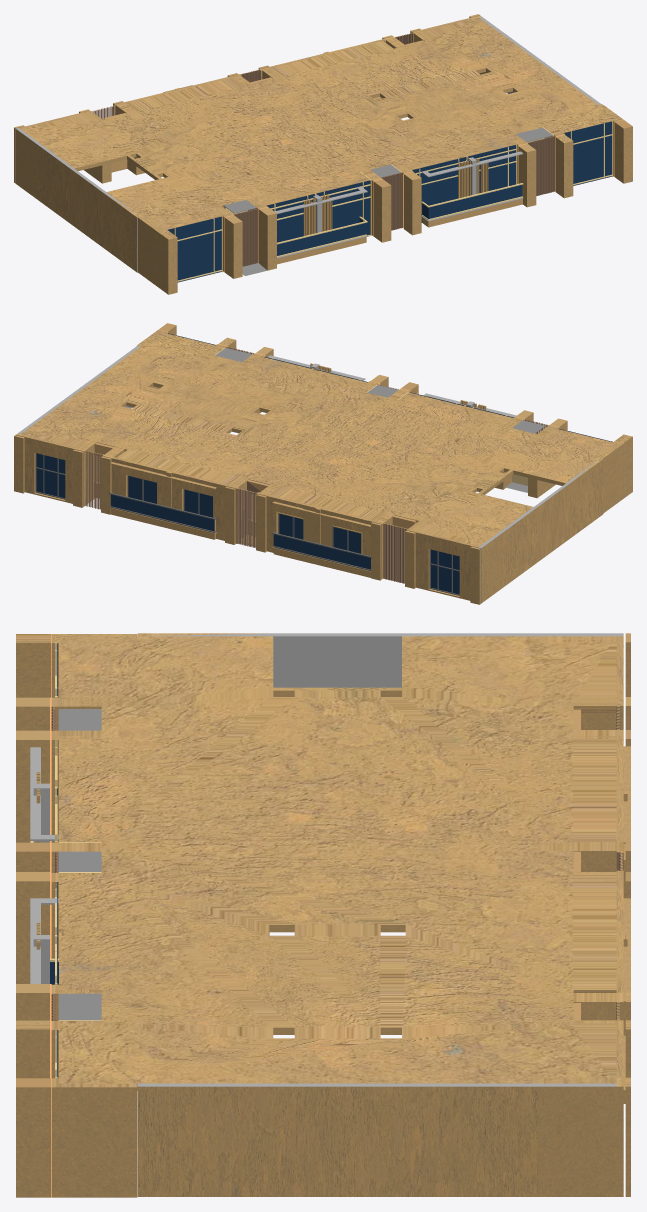
Rendered from fourthfloor.compressed.glb.
3 views of the same model, one above another, from view 1: azimuth 30°, elevation 25°; view 2: azimuth 150°, elevation 25°; view 3: azimuth 270°, elevation 25° (orthographic). The views are drawn at different scales.
Visible parts, largest first — view 1: FOURTH FLOOR; view 2: FOURTH FLOOR; view 3: FOURTH FLOOR.
Boxes of the visible parts, bbox=[...] form: FOURTH FLOOR: bbox=[14, 14, 632, 294]; FOURTH FLOOR: bbox=[14, 323, 632, 604]; FOURTH FLOOR: bbox=[16, 633, 630, 1197].
Bounding box in the file's own units: 11.1 × 1.31 × 6.36.
Materials: 8 (1 with a texture image).
